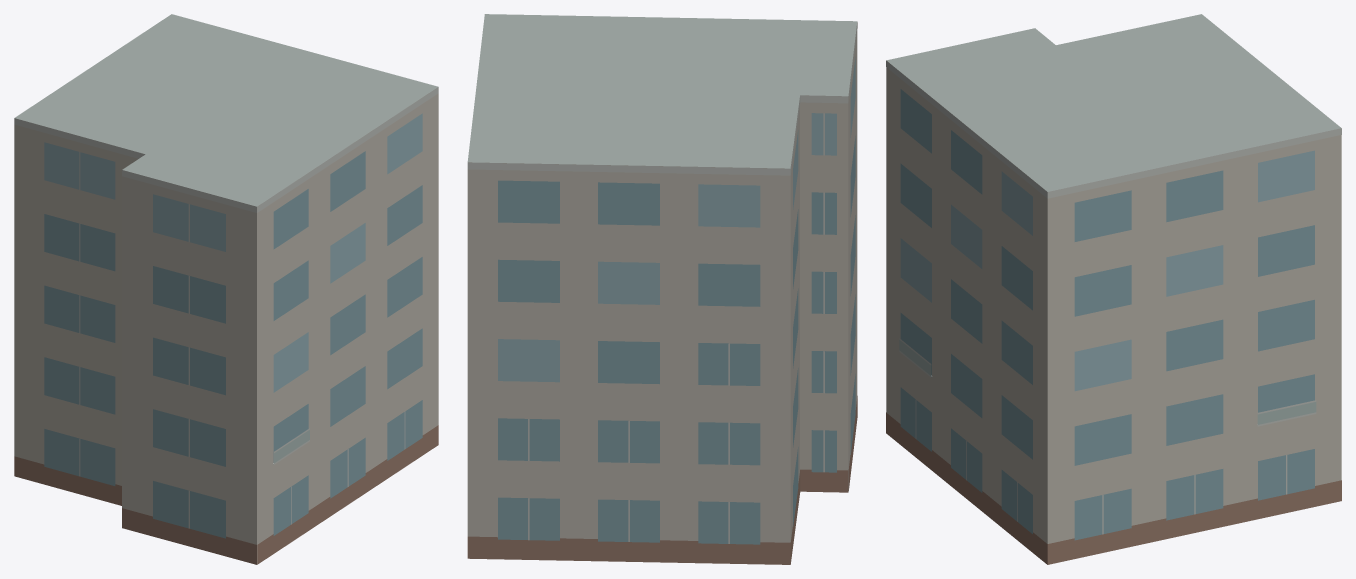
Rendered from survey-upis-32970545.glb.
3 views of the same model, side by side, from view 1: azimuth 30°, elevation 25°; view 2: azimuth 150°, elevation 25°; view 3: azimuth 270°, elevation 25° (orthographic). The views are drawn at different scales.
Parts seen in each view (by area): view 1: survey-upis-32970545.tmp; view 2: survey-upis-32970545.tmp; view 3: survey-upis-32970545.tmp.
Boxes of the visible parts, left/top/right/bottom form: survey-upis-32970545.tmp: left=14, top=14, right=438, bottom=564; survey-upis-32970545.tmp: left=467, top=14, right=857, bottom=564; survey-upis-32970545.tmp: left=886, top=14, right=1341, bottom=564.
Bounding box in the file's own units: 13.93 × 13.6 × 15.07.
